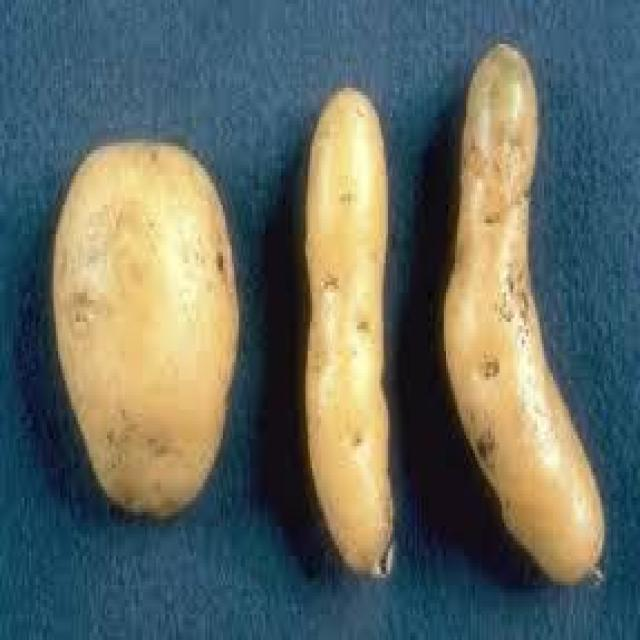Potato: (439, 42, 607, 589), (48, 139, 241, 524), (295, 87, 395, 581)
